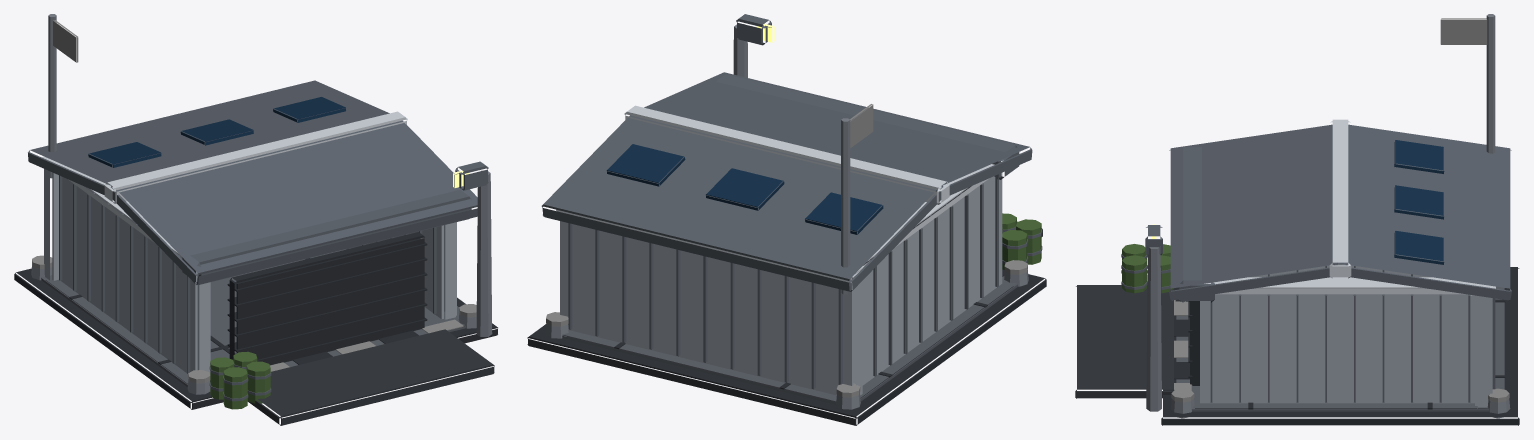
Rendered from con_yard.glb.
3 views of the same model, side by side, from view 1: azimuth 30°, elevation 25°; view 2: azimuth 150°, elevation 25°; view 3: azimuth 270°, elevation 25° (orthographic). The views are drawn at different scales.
Visible parts, largest first — view 1: body; view 2: body; view 3: body.
Boxes of the visible parts, left/top/right/bottom form: body: left=14, top=14, right=497, bottom=425; body: left=527, top=14, right=1046, bottom=425; body: left=1075, top=14, right=1519, bottom=425.
Bounding box in the file's own units: 96 × 80.36 × 119.
